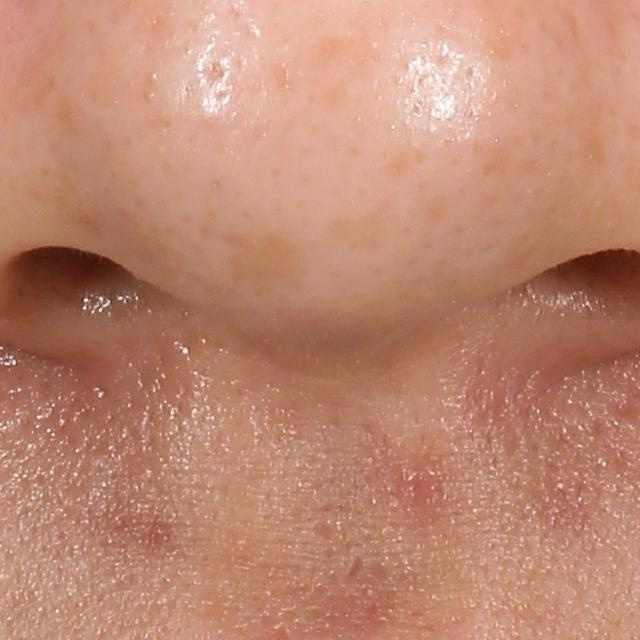atrophic_scar: (314, 520, 333, 540)
melasma: (222, 230, 307, 288)
